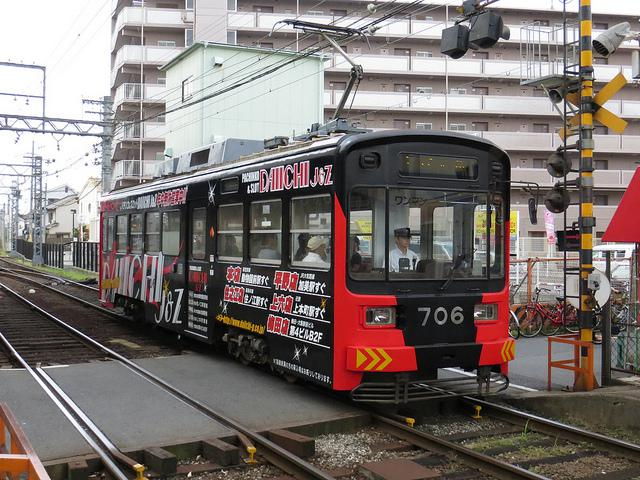Train: (93, 26, 516, 417)
